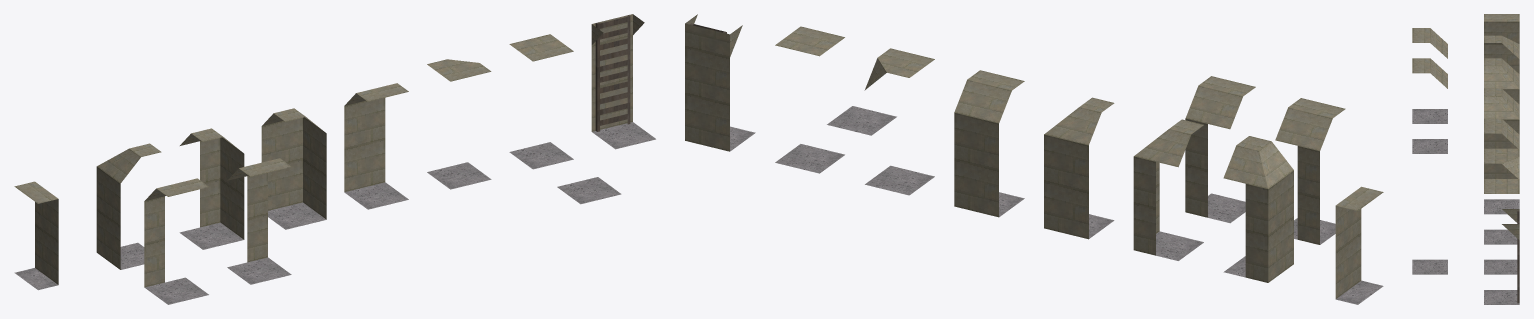
The model's file is tileset.glb.
The picture shows the model from 3 angles, left to right: view 1: azimuth 30°, elevation 25°; view 2: azimuth 150°, elevation 25°; view 3: azimuth 270°, elevation 25°; orthographic projection. The views are drawn at different scales.
Parts seen in each view (by area): view 1: Wall_outside_corner-col, floor_ladder-col, Wall-col, Wall_outside_corner_wall_right-col, Wall_outside_corner_wall_left-col, Wall-door-left-col, Wall-door-right-col, Doorway-corridor-right-col, floor-col, Wall_inside_corner-col, floor-col.001; view 2: Wall_outside_corner_wall_left-col, Wall-col, Wall_outside_corner-col, floor_ladder-col, Wall-door-right-col, Wall_outside_corner_wall_right-col, Wall-door-left-col, Doorway-corridor-right-col, Wall_inside_corner-col, floor-col, floor-col.001; view 3: Wall_outside_corner-col, Wall_inside_corner-col, Wall_outside_corner_wall_right-col, Wall-door-right-col, Wall-door-left-col, floor-col, Wall-col, floor_ladder-col, Wall_outside_corner_wall_left-col, Doorway-corridor-right-col, floor-col.001.
Part boxes in pixels (left/top/right/bottom): Wall_outside_corner-col: left=261, top=108, right=326, bottom=229; floor_ladder-col: left=591, top=14, right=655, bottom=149; Wall-col: left=344, top=83, right=408, bottom=209; Wall_outside_corner_wall_right-col: left=179, top=128, right=244, bottom=249; Wall_outside_corner_wall_left-col: left=96, top=143, right=161, bottom=269; Wall-door-left-col: left=144, top=178, right=208, bottom=304; Wall-door-right-col: left=227, top=158, right=291, bottom=284; Doorway-corridor-right-col: left=14, top=181, right=58, bottom=290; floor-col: left=509, top=34, right=573, bottom=169; Wall_inside_corner-col: left=427, top=59, right=491, bottom=189; floor-col.001: left=557, top=177, right=621, bottom=204; Wall_outside_corner_wall_left-col: left=1223, top=136, right=1293, bottom=282; Wall-col: left=954, top=70, right=1024, bottom=217; Wall_outside_corner-col: left=1044, top=97, right=1114, bottom=239; floor_ladder-col: left=685, top=14, right=755, bottom=151; Wall-door-right-col: left=1185, top=76, right=1255, bottom=223; Wall_outside_corner_wall_right-col: left=1133, top=119, right=1203, bottom=260; Wall-door-left-col: left=1275, top=98, right=1345, bottom=244; Doorway-corridor-right-col: left=1335, top=186, right=1383, bottom=304; Wall_inside_corner-col: left=864, top=48, right=934, bottom=195; floor-col: left=775, top=26, right=844, bottom=173; floor-col.001: left=827, top=106, right=896, bottom=135; Wall_outside_corner-col: left=1484, top=88, right=1519, bottom=178; Wall_inside_corner-col: left=1484, top=148, right=1519, bottom=244; Wall_outside_corner_wall_right-col: left=1484, top=58, right=1519, bottom=104; Wall-door-right-col: left=1412, top=58, right=1447, bottom=153; Wall-door-left-col: left=1412, top=28, right=1447, bottom=123; floor-col: left=1484, top=179, right=1519, bottom=274; Wall-col: left=1484, top=118, right=1519, bottom=214; floor_ladder-col: left=1484, top=209, right=1519, bottom=304; Wall_outside_corner_wall_left-col: left=1484, top=35, right=1519, bottom=73; Doorway-corridor-right-col: left=1484, top=14, right=1519, bottom=43; floor-col.001: left=1412, top=259, right=1447, bottom=274.
Bounding box in the file's own units: 22.5 × 3.75 × 4.5.
Materials: 1 (1 with a texture image).
